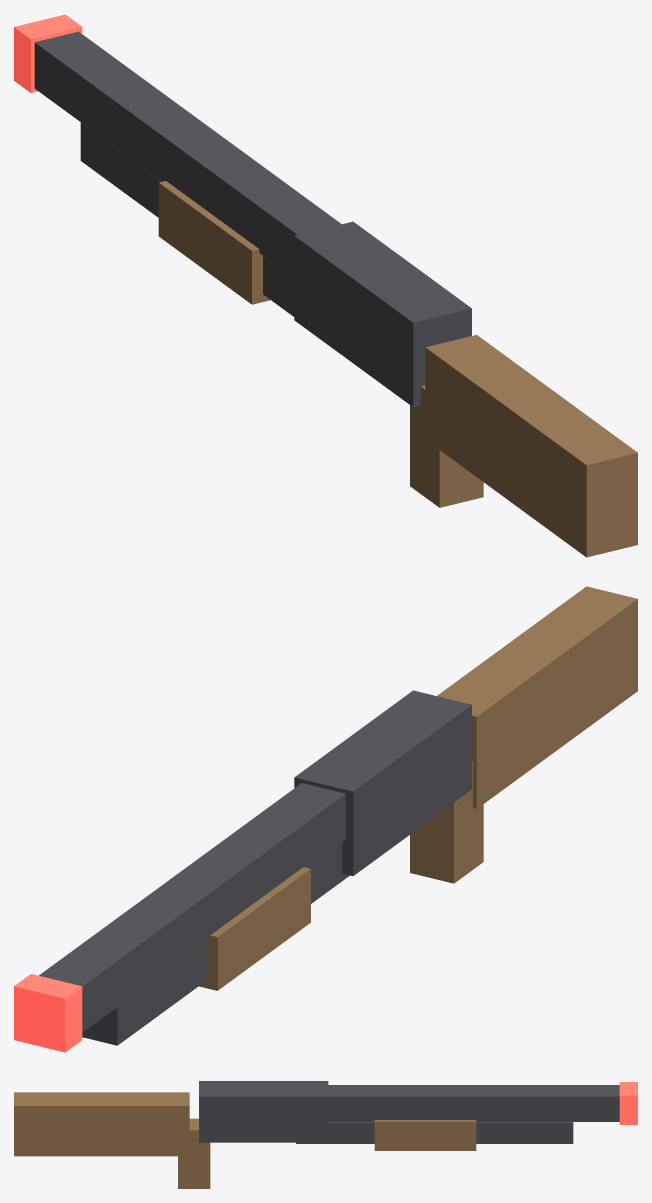
The model's file is shotgun.glb.
3 renders of one model, top to bottom at view 1: azimuth 30°, elevation 25°; view 2: azimuth 150°, elevation 25°; view 3: azimuth 270°, elevation 25°, orthographic. The views are drawn at different scales.
Parts seen in each view (by area): view 1: barrel, wood, muzzle; view 2: barrel, wood, muzzle; view 3: barrel, wood, muzzle.
Part boxes in pixels (bbox=[...]): barrel: bbox=[34, 31, 471, 407]; wood: bbox=[158, 181, 637, 557]; muzzle: bbox=[14, 14, 82, 92]; barrel: bbox=[39, 690, 471, 1045]; wood: bbox=[199, 586, 637, 990]; muzzle: bbox=[14, 974, 82, 1052]; barrel: bbox=[199, 1081, 619, 1143]; wood: bbox=[14, 1092, 476, 1188]; muzzle: bbox=[619, 1082, 637, 1124].
Bounding box in the file's own units: 0.08 × 0.225 × 1.35.
